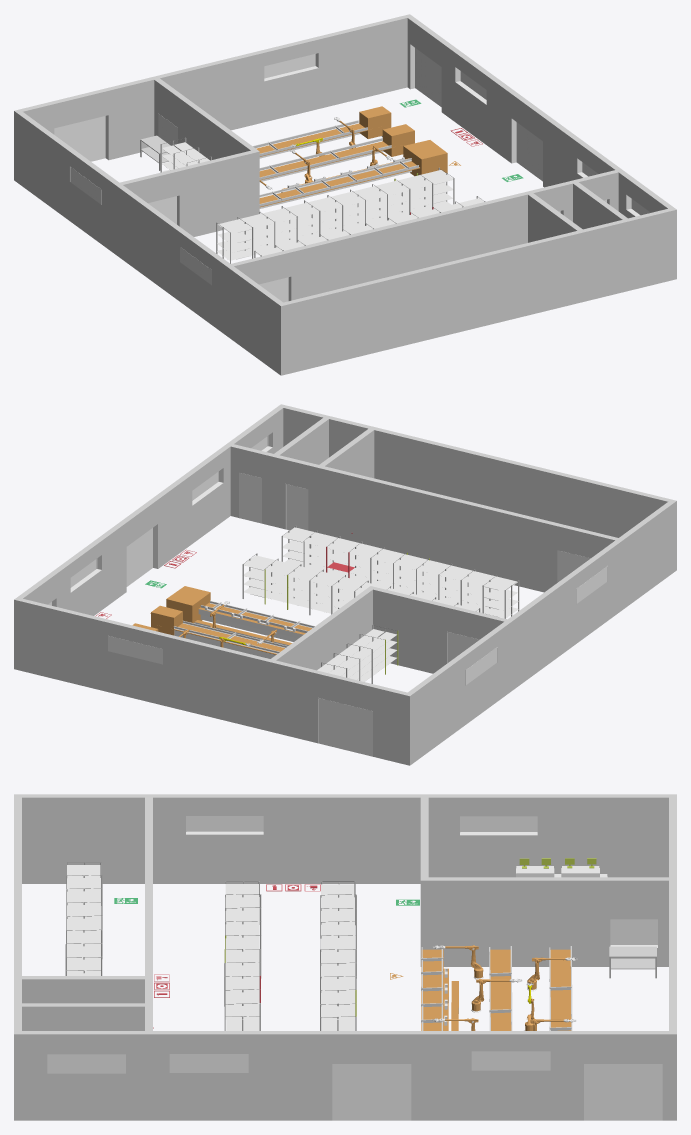
Rendered from VV_BASE_GLB.glb.
The picture shows the model from 3 angles, top to bottom: view 1: azimuth 30°, elevation 25°; view 2: azimuth 150°, elevation 25°; view 3: azimuth 270°, elevation 25°; orthographic projection. The views are drawn at different scales.
Size of the model in its own units: 0.0358 by 0.006 by 0.0418.
